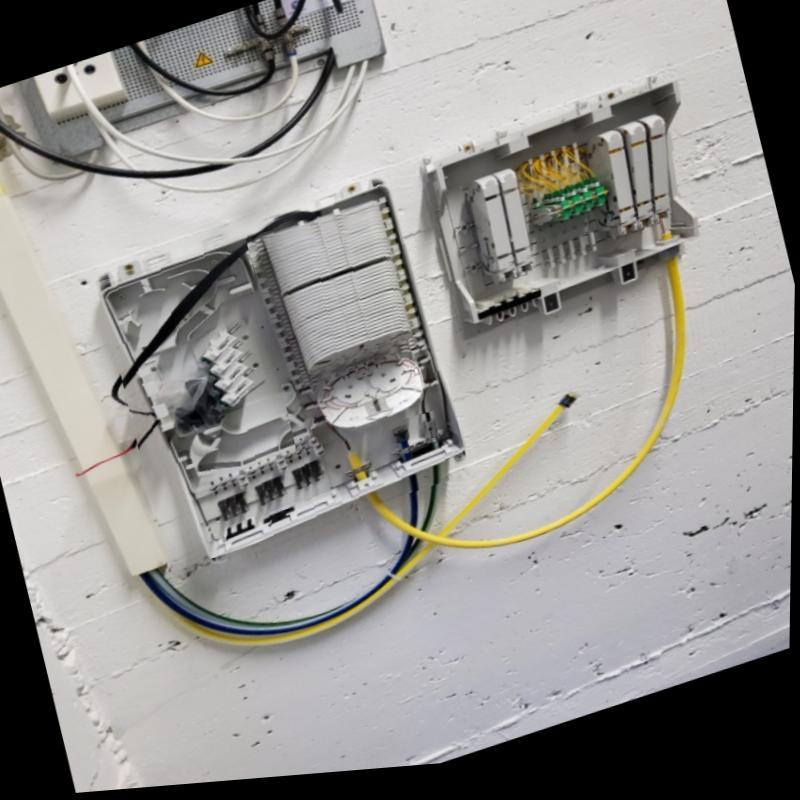NT-Gehause: (100, 190, 466, 562)
Spleiskassetten: (247, 203, 439, 450)
